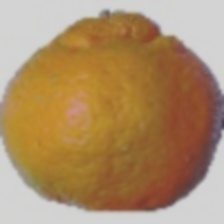tangerine: (12, 25, 209, 224)
